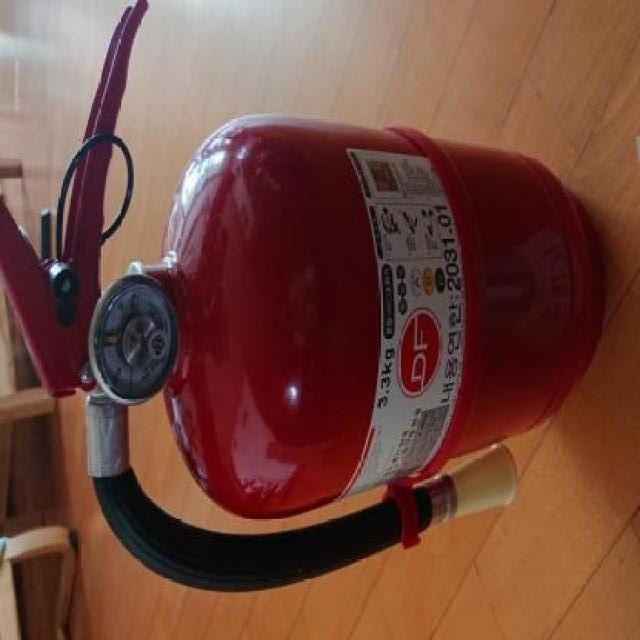fire extinguisher: (0, 0, 605, 591)
